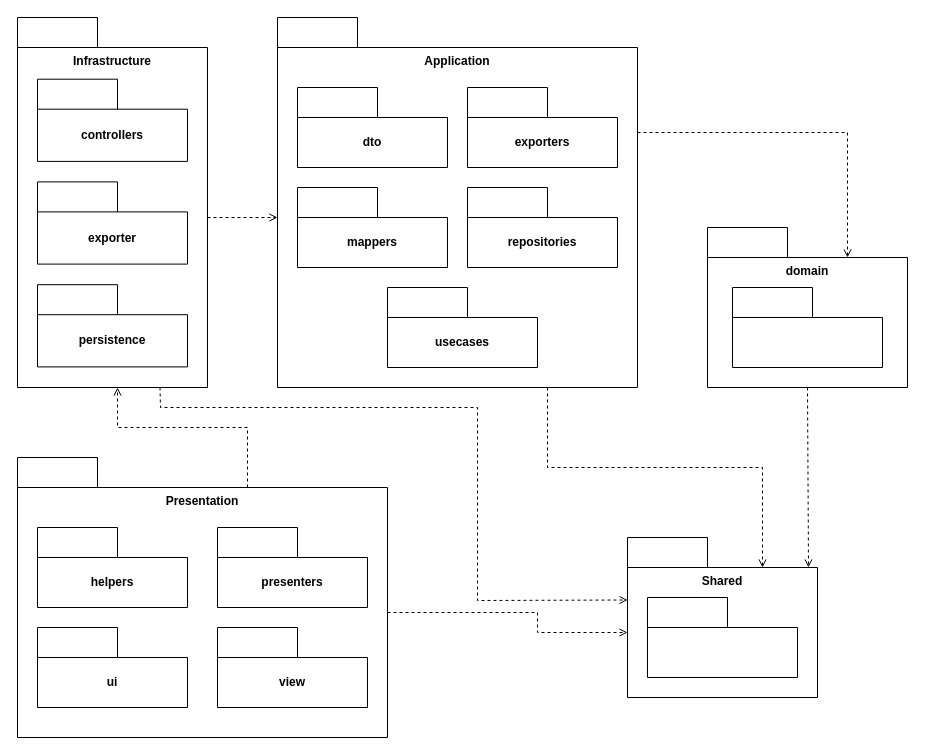
Some shapes in this 925 by 755 pixel diagram are drawn without their labels. Here are the shapes that lost their labels. From the top down, the centre of each, then its label:
pixel 807 327: entities
pixel 722 637: enums
